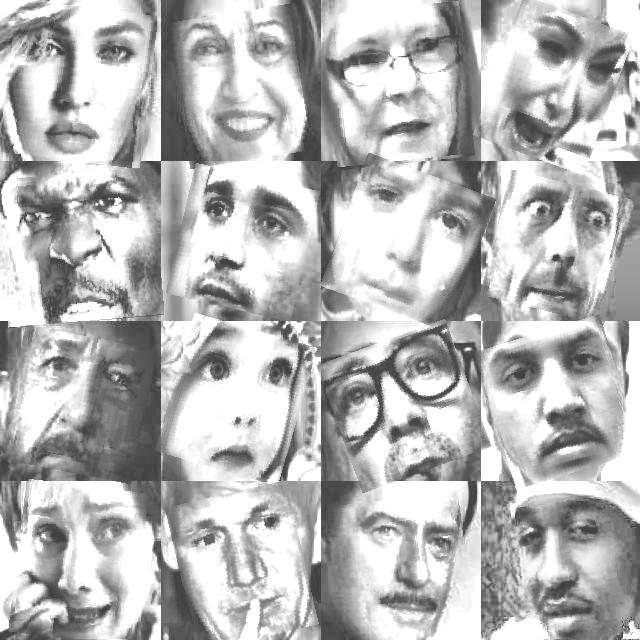angry: (0, 169, 161, 325)
fear: (164, 321, 308, 479), (12, 482, 144, 640), (487, 176, 629, 319)
happy: (173, 8, 312, 164), (337, 494, 471, 640), (506, 495, 631, 640)
neutral: (3, 3, 153, 165), (483, 322, 632, 482), (326, 5, 472, 167), (172, 486, 311, 640), (173, 170, 313, 316)
sad: (330, 163, 486, 323), (326, 329, 482, 483), (484, 2, 624, 167), (6, 330, 152, 479)
